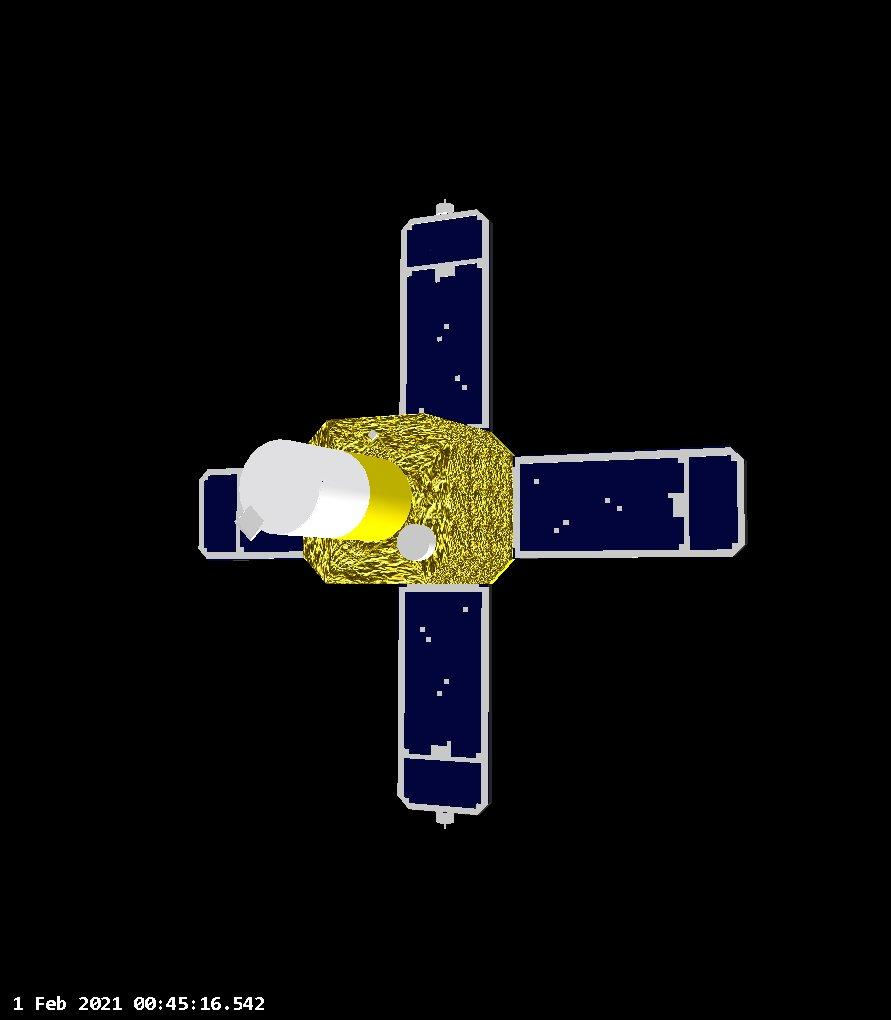antenna: (434, 806, 456, 831), (434, 196, 455, 213)
body: (302, 414, 522, 588)
solar: (508, 443, 752, 560), (393, 209, 497, 436), (394, 582, 491, 816), (197, 464, 309, 563)
